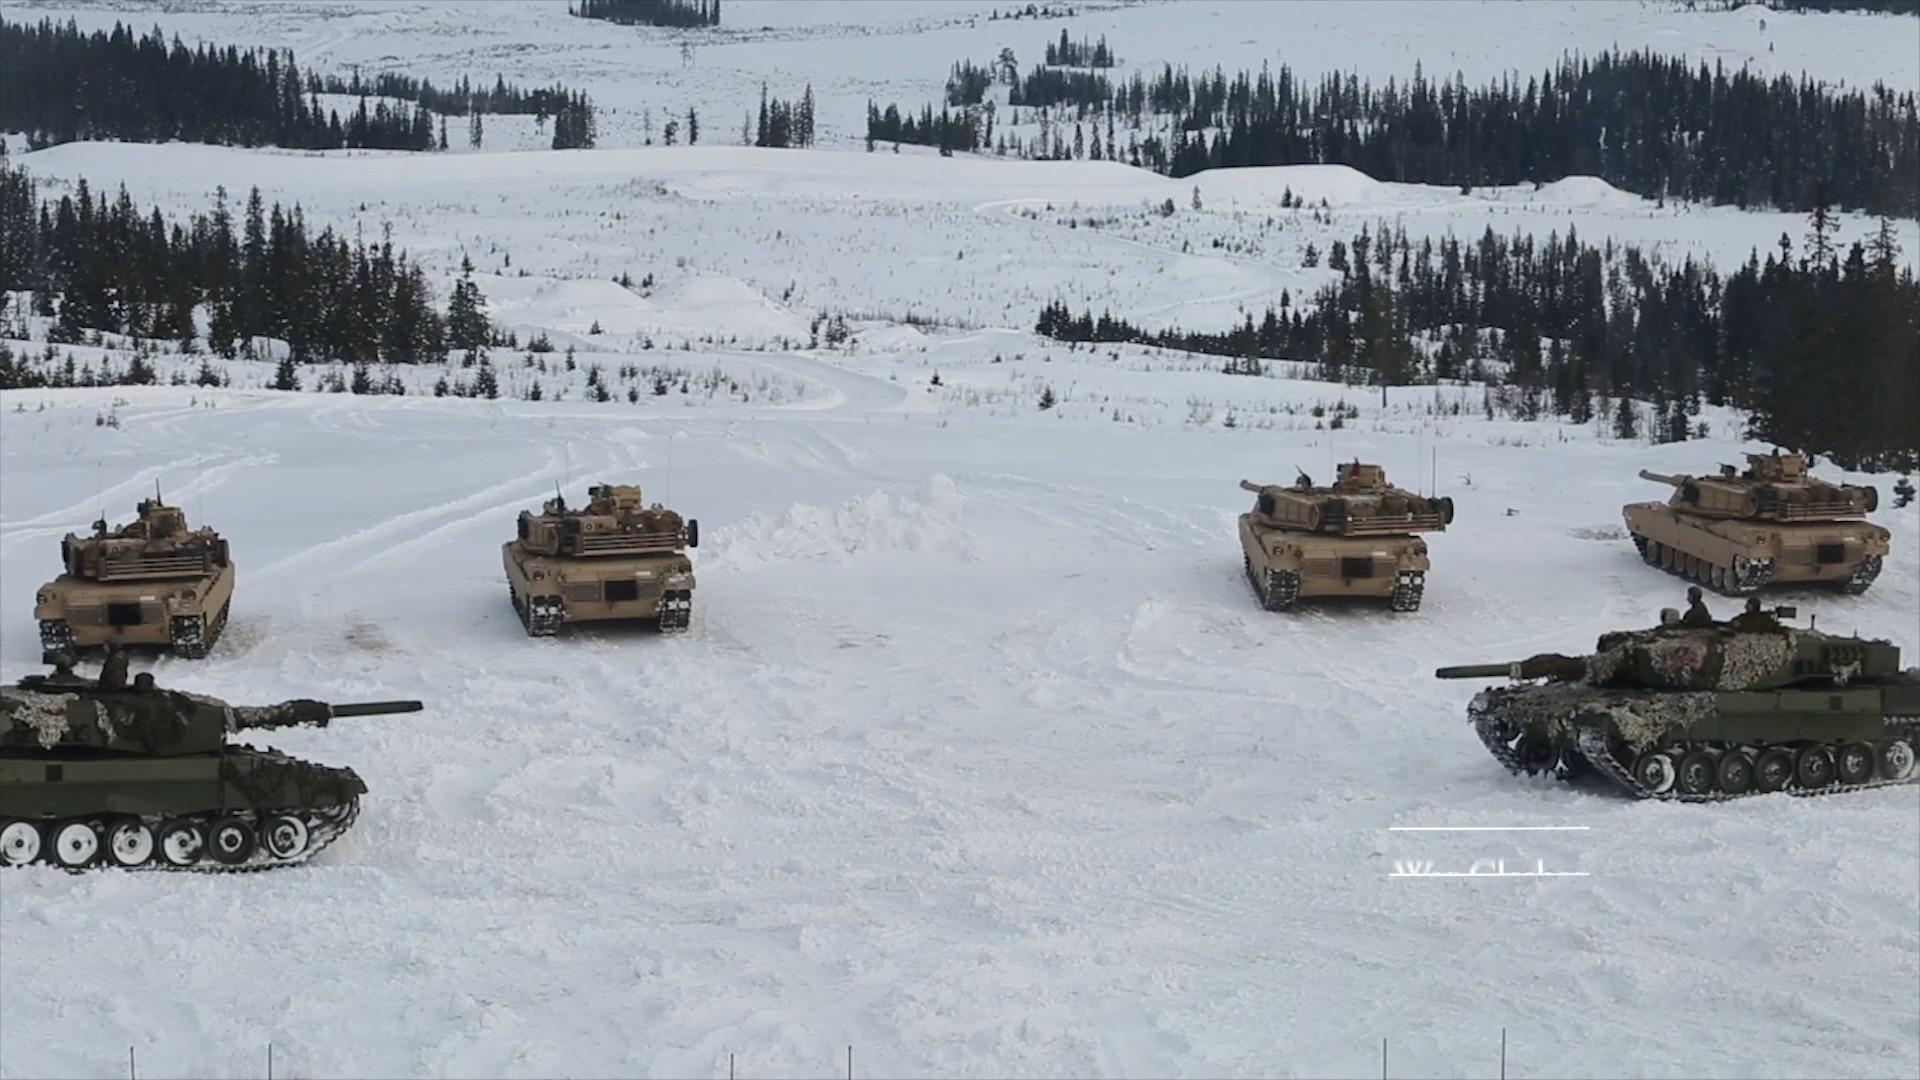tank: (0, 650, 423, 870), (1435, 621, 1919, 796), (1622, 454, 1891, 597), (33, 500, 235, 661), (1238, 464, 1453, 612), (502, 484, 698, 636)
